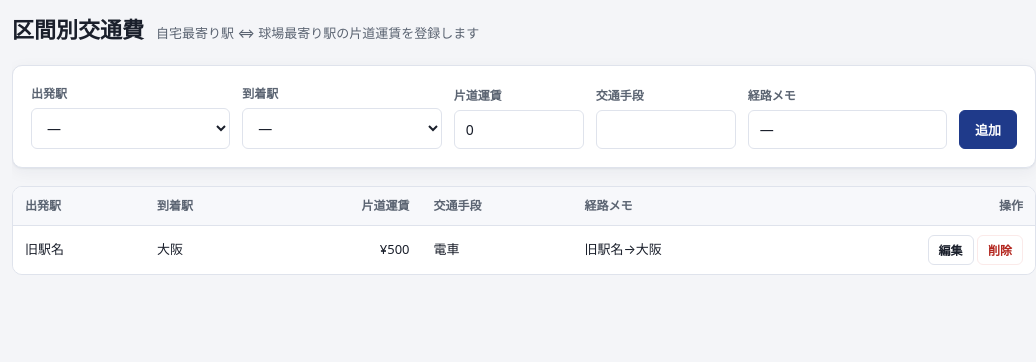
it: RouteFaresPage — station pickers › opens an existing row on free text when its station is in neither master
Click the button "編集": [951, 250] box top-left (928, 235), bottom-right (974, 265)
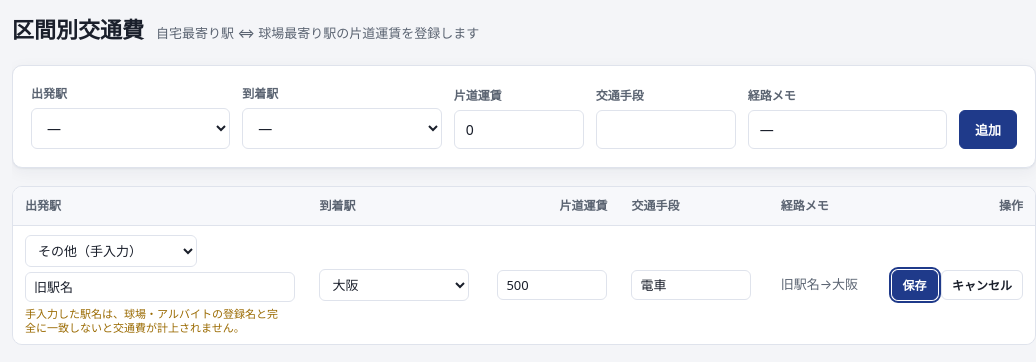
Check: the 3rd field holds "旧駅名", box top-left (25, 272), bottom-right (295, 302)
